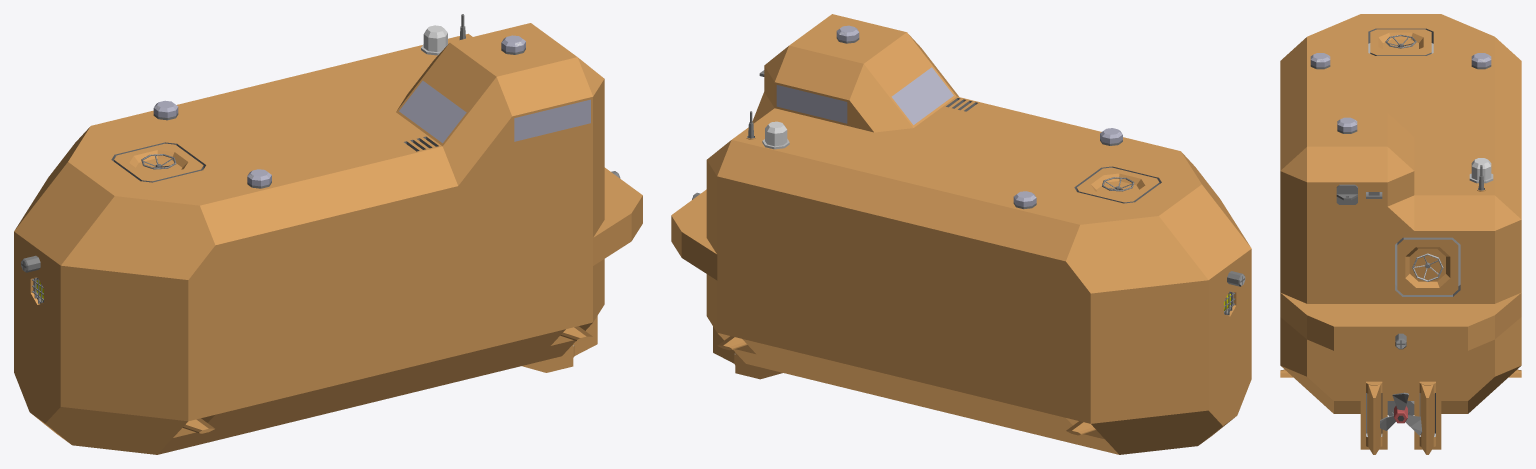
3 views of the same model, side by side, from view 1: azimuth 30°, elevation 25°; view 2: azimuth 150°, elevation 25°; view 3: azimuth 270°, elevation 25° (orthographic). The views are drawn at different scales.
Parts seen in each view (by area): view 1: Geode; view 2: Geode; view 3: Geode.
Part boxes in pixels (left/top/right/bottom): Geode: left=14, top=14, right=642, bottom=454; Geode: left=671, top=14, right=1251, bottom=454; Geode: left=1280, top=14, right=1521, bottom=454.
Bounding box in the file's own units: 5.5 × 3.09 × 2.25.
